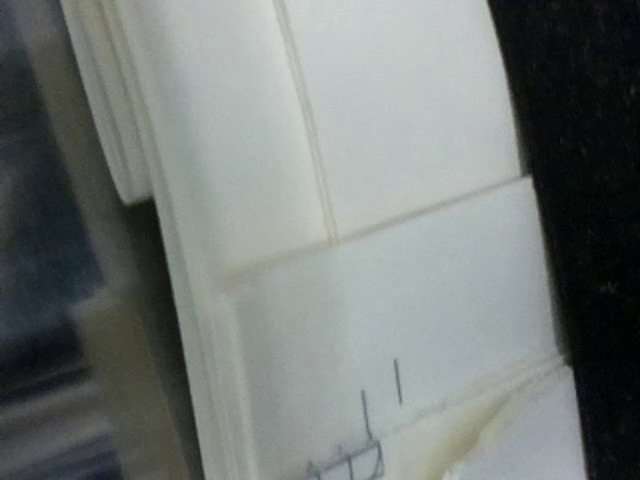not_sure: (288, 416, 416, 480)
